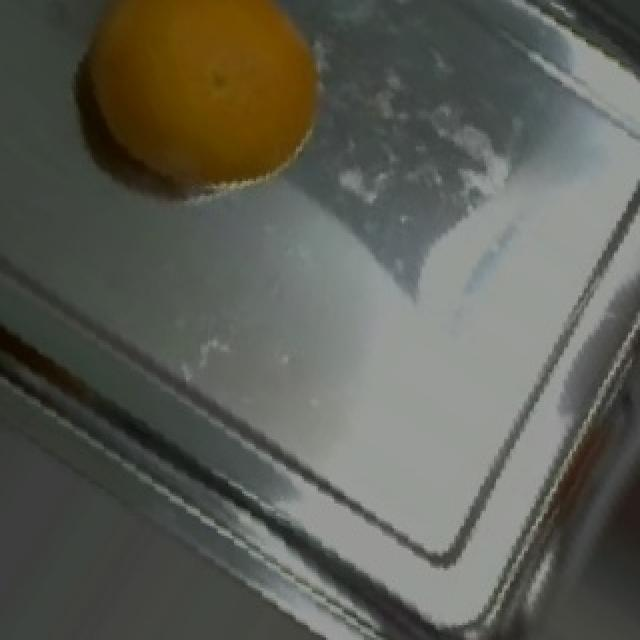Fruit: (60, 0, 348, 223)
